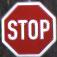Stop sign: (0, 0, 56, 56)
